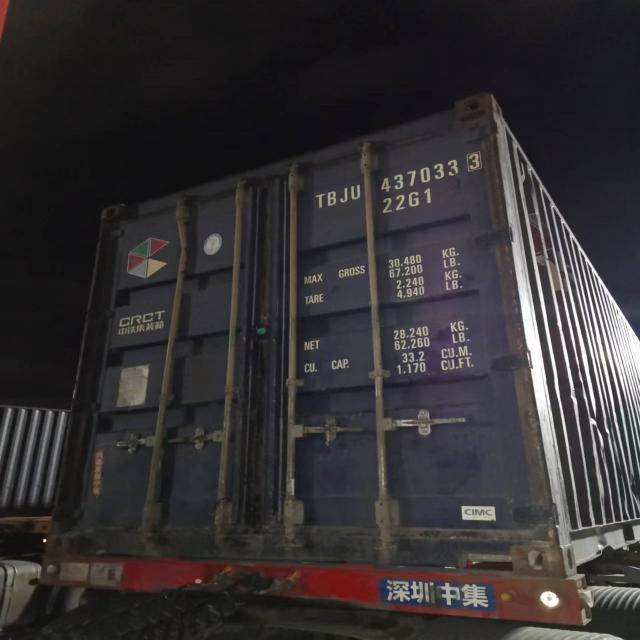ISO: (378, 188, 436, 214)
container_number: (315, 148, 483, 210)
